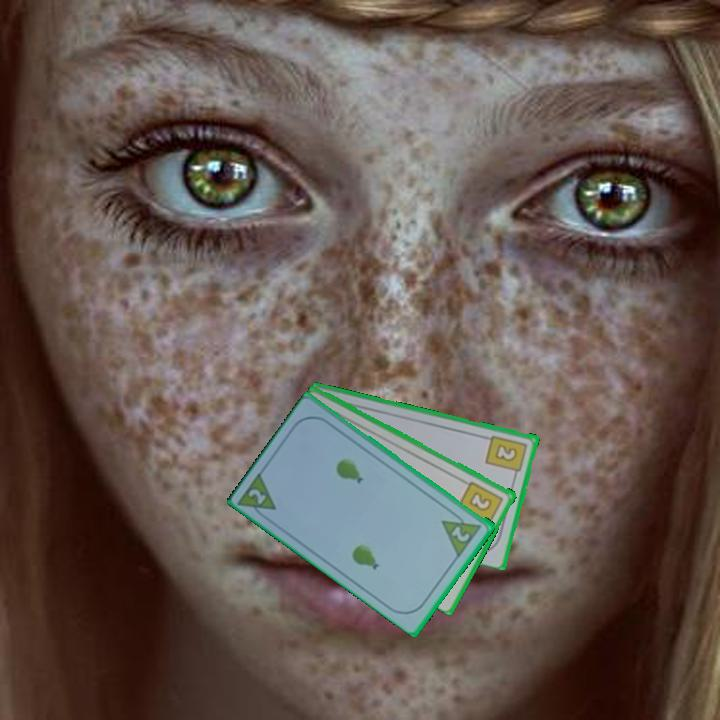2b: (455, 477, 506, 531), (483, 431, 530, 480)
2p: (236, 467, 280, 524), (438, 506, 485, 559)
